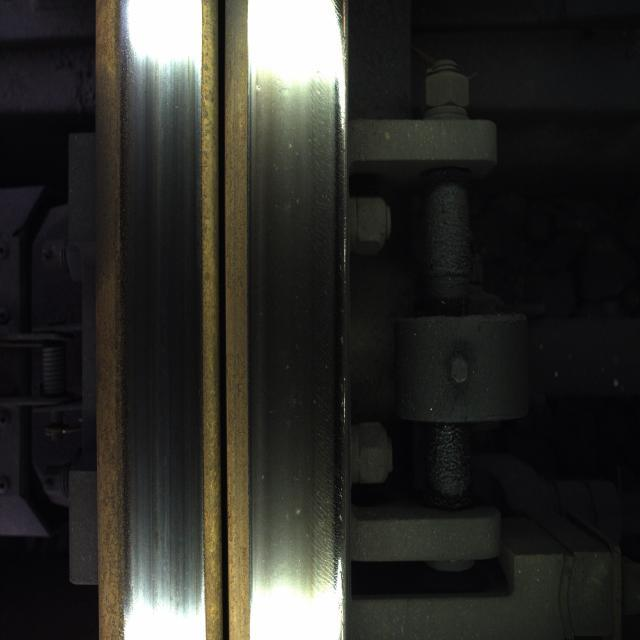break: (119, 69, 208, 595)
normal: (254, 38, 338, 596)
